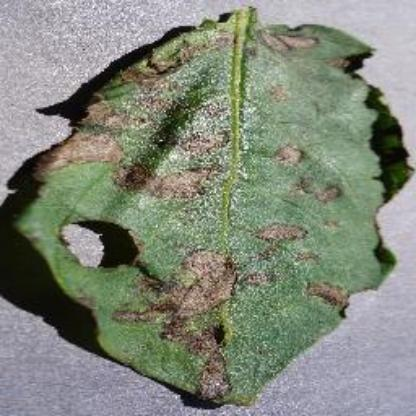Early-Blight: (12, 5, 416, 406)
